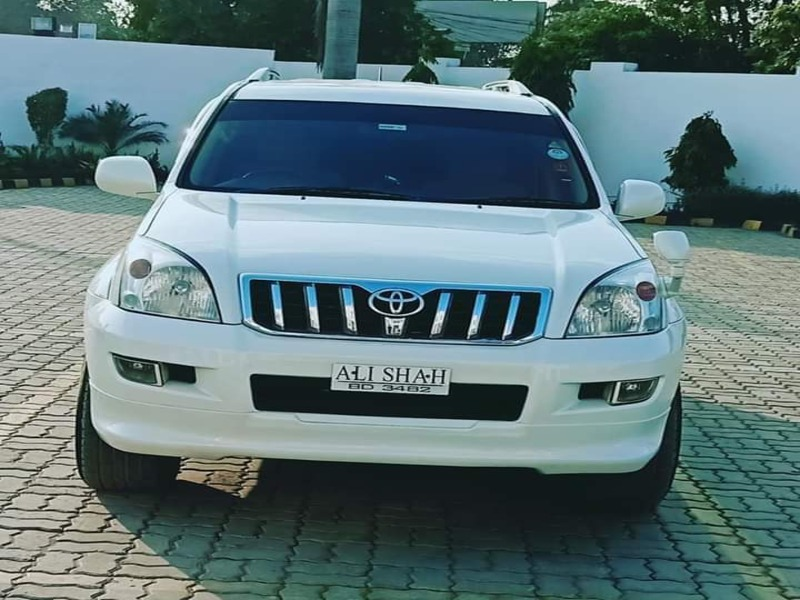License Plate: (329, 359, 454, 401)
